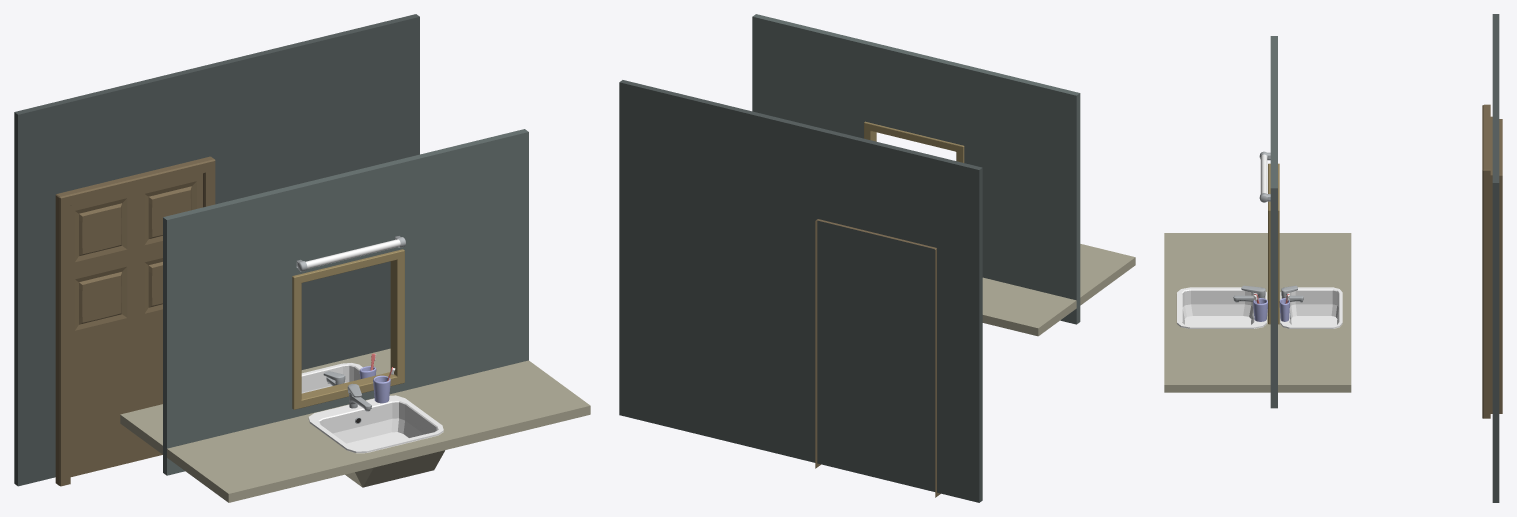
File: BackgroudnAssets.fbx
The picture shows the model from 3 angles, left to right: view 1: azimuth 30°, elevation 25°; view 2: azimuth 150°, elevation 25°; view 3: azimuth 270°, elevation 25°; orthographic projection. The views are drawn at different scales.
Parts seen in each view (by area): view 1: polySurface8 (×2), polySurface10, polySurface12, polySurface11, polySurface9 (×2), pCylinder7; view 2: polySurface10, polySurface8 (×2), polySurface11, polySurface9; view 3: polySurface8 (×2), polySurface11, polySurface10, polySurface12, polySurface9, pCylinder7.
Part boxes in pixels (x1,y1,x2,y2): polySurface8 (×2): [120, 129, 590, 502]; polySurface10: [14, 14, 419, 486]; polySurface12: [70, 173, 202, 476]; polySurface11: [55, 156, 215, 486]; polySurface9 (×2): [292, 249, 404, 409]; pCylinder7: [296, 236, 405, 271]; polySurface10: [619, 80, 982, 502]; polySurface8 (×2): [752, 14, 1135, 336]; polySurface11: [815, 219, 940, 497]; polySurface9: [864, 121, 964, 162]; polySurface8 (×2): [1164, 36, 1351, 408]; polySurface11: [1482, 104, 1502, 418]; polySurface10: [1492, 14, 1499, 502]; polySurface12: [1490, 116, 1492, 411]; polySurface9: [1268, 163, 1270, 324]; pCylinder7: [1259, 151, 1270, 202].
Bounding box in the file's own units: 48.11 × 43.03 × 40.72.
